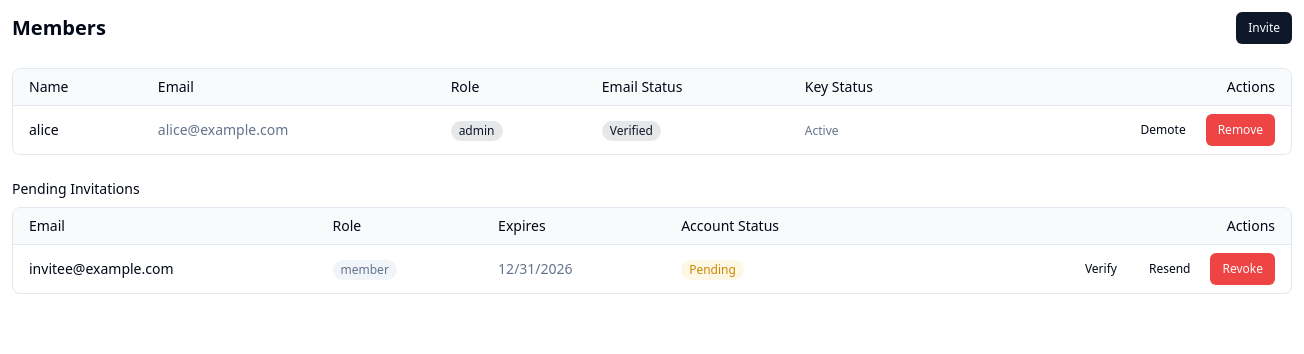
Test case: OrgMembersTab › renders a clear 'must sign up first' message on 422 no_account_for_email
Click the button "Verify" at (1101, 269), box [1073,253,1129,285]
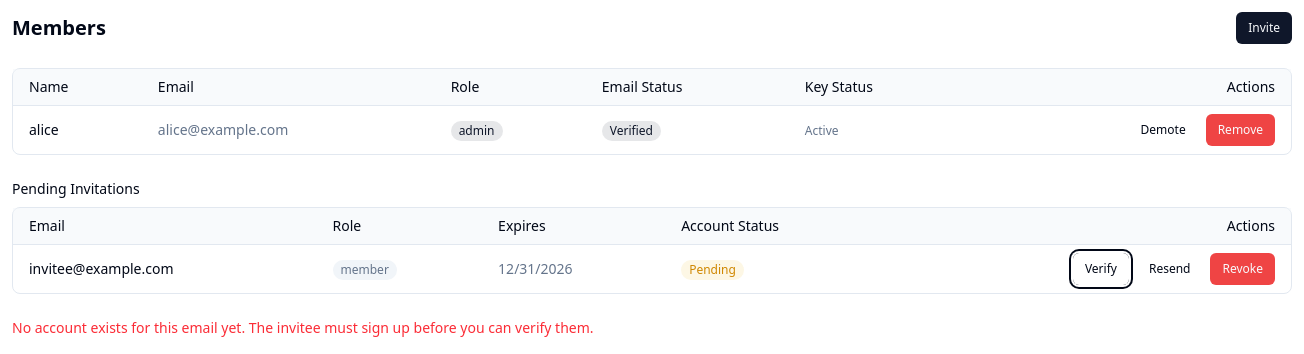
Now the text "The invitee must sign up before" is shown, box [12,318,594,337]
